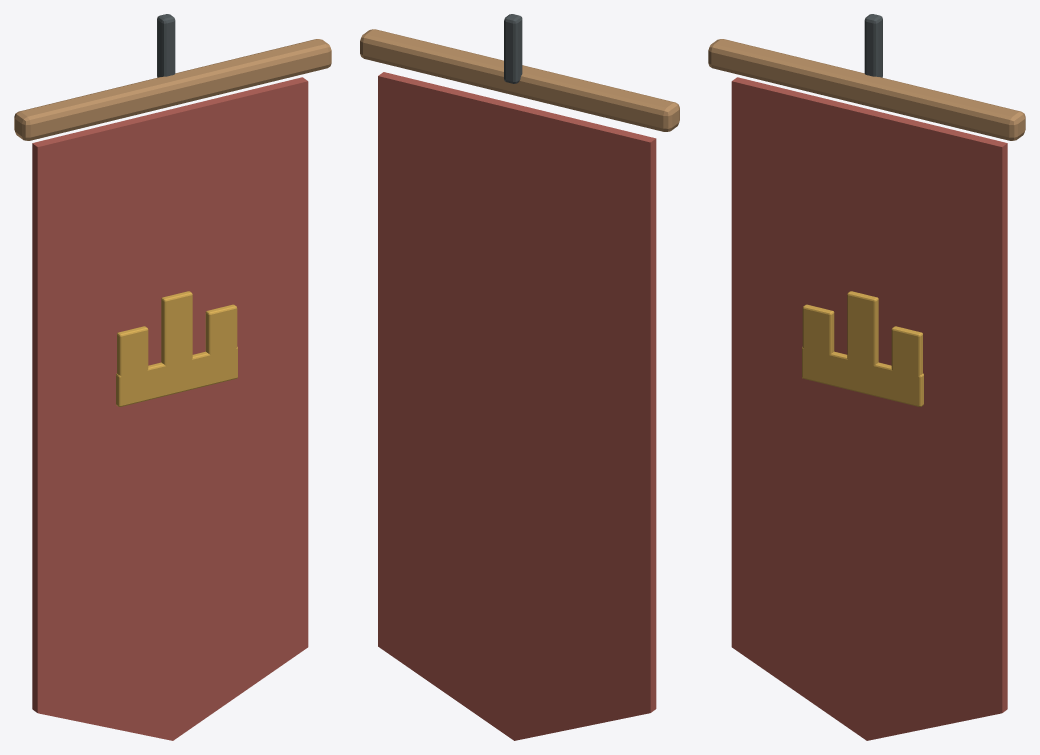
The model's file is kingdom_banner_red.glb.
3 views of the same model, side by side, from view 1: azimuth 30°, elevation 25°; view 2: azimuth 150°, elevation 25°; view 3: azimuth 330°, elevation 25° (orthographic).
Parts seen in each view (by area): view 1: kingdom_banner_red; view 2: kingdom_banner_red; view 3: kingdom_banner_red.
Boxes of the visible parts, x1=… form: kingdom_banner_red: x1=14, y1=14, x2=331, y2=740; kingdom_banner_red: x1=360, y1=14, x2=679, y2=740; kingdom_banner_red: x1=708, y1=14, x2=1025, y2=740.
Size of the model in its own units: 0.8 by 1.78 by 0.0775.
